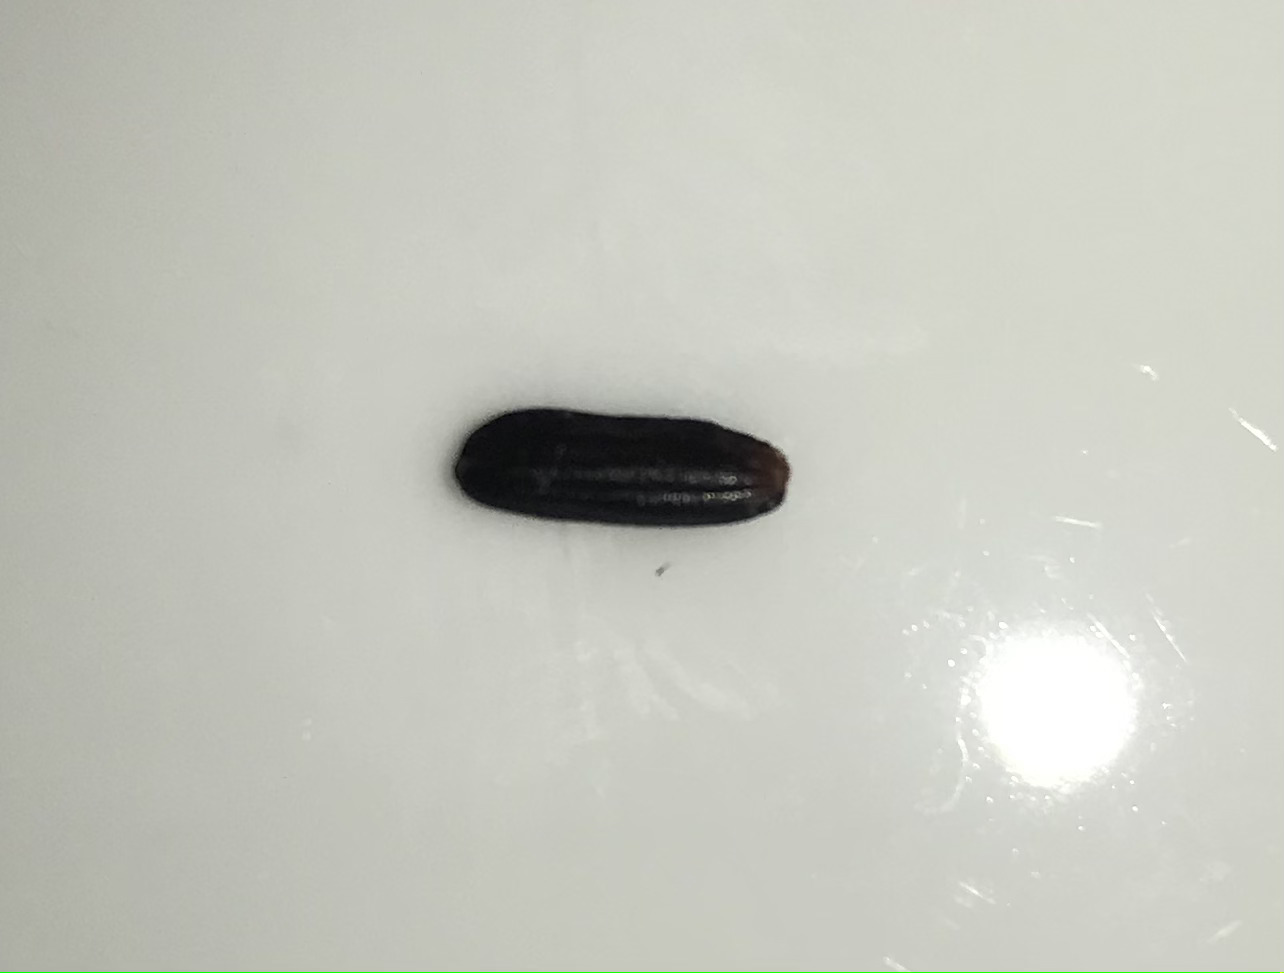Gao lut: (452, 405, 794, 531)
